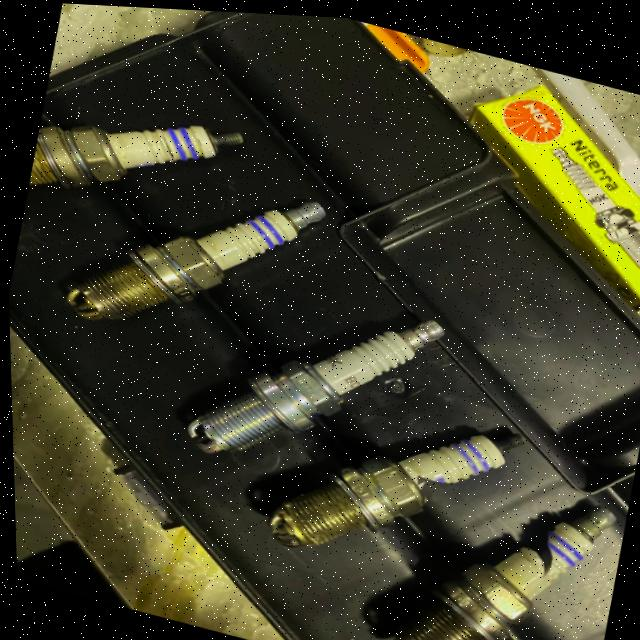damaged_spark-plug: (250, 421, 534, 557), (375, 486, 612, 640)
spark-plug: (172, 310, 454, 459), (45, 191, 336, 327), (25, 124, 249, 190)
